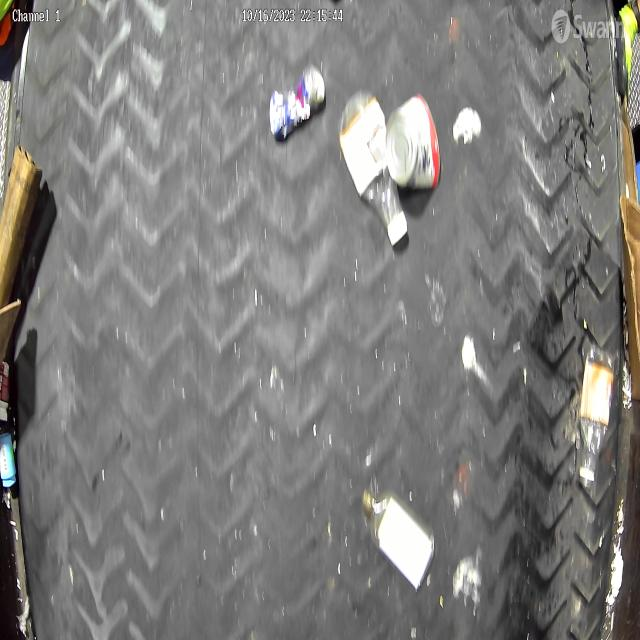can: (388, 96, 442, 191), (268, 63, 326, 143)
plastic_bottle: (339, 87, 407, 247), (360, 486, 436, 591), (577, 340, 617, 486)
